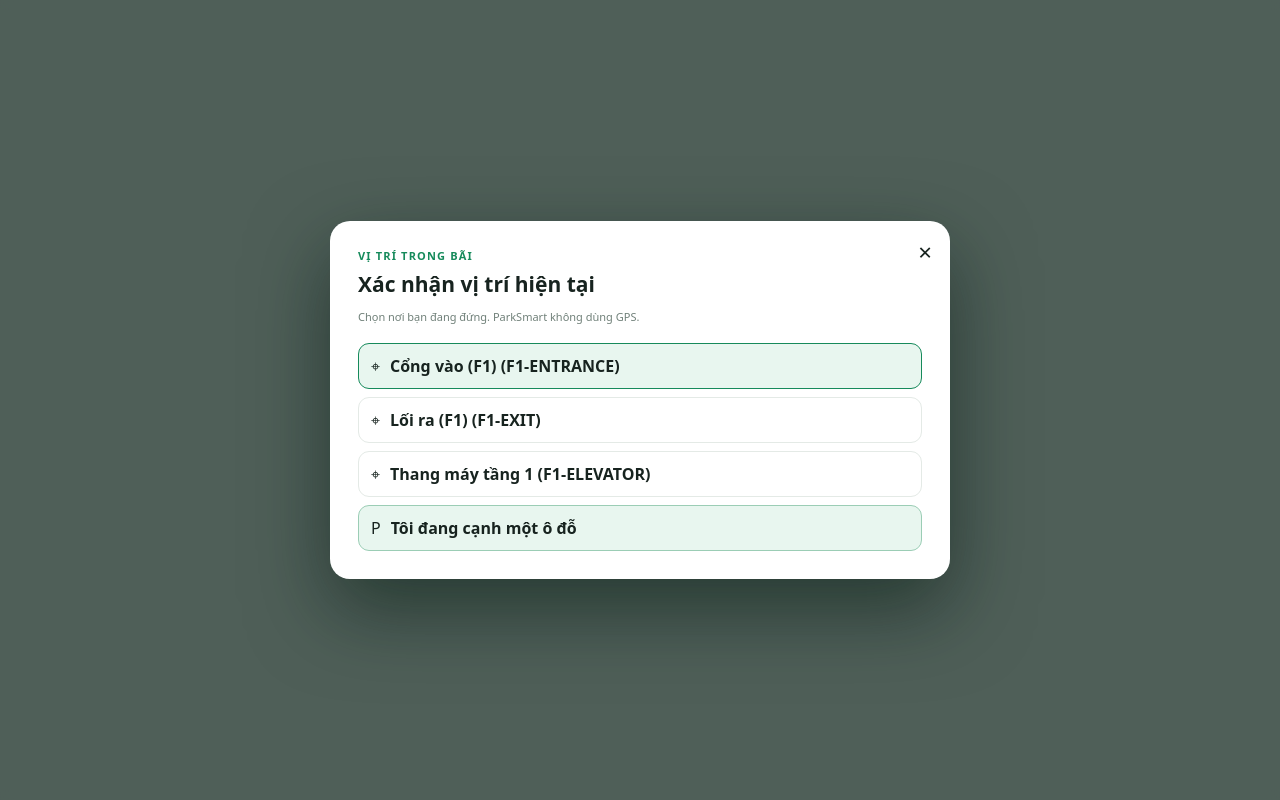
Test case: LocationPicker › shows Vietnamese special locations and a tap-only zone/slot flow
Click the button "P Tôi đang cạnh một ô đỗ" at (484, 528), box 358,505 -> 922,551
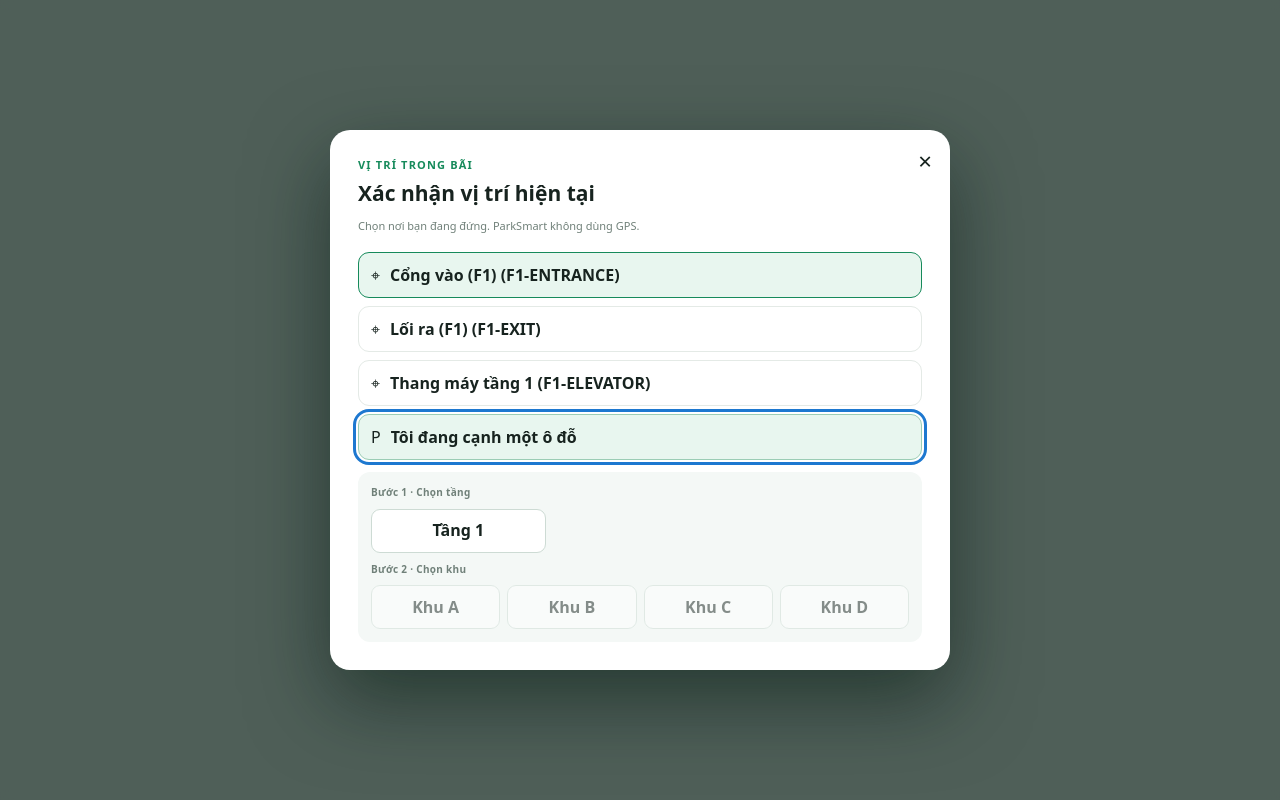
Click the button "Tầng 1" at (458, 531), box 371,509 -> 546,553
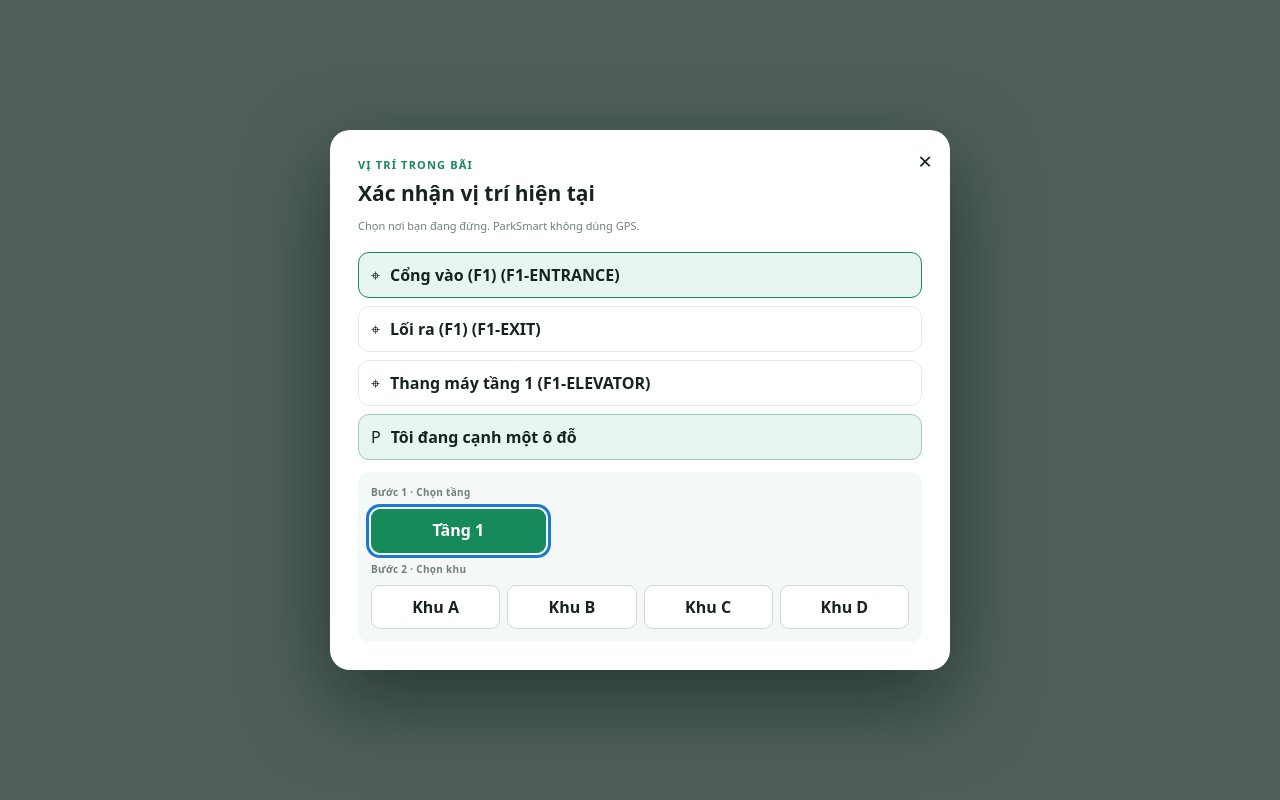
Click the button "Khu D" at (844, 607), box 780,585 -> 909,629
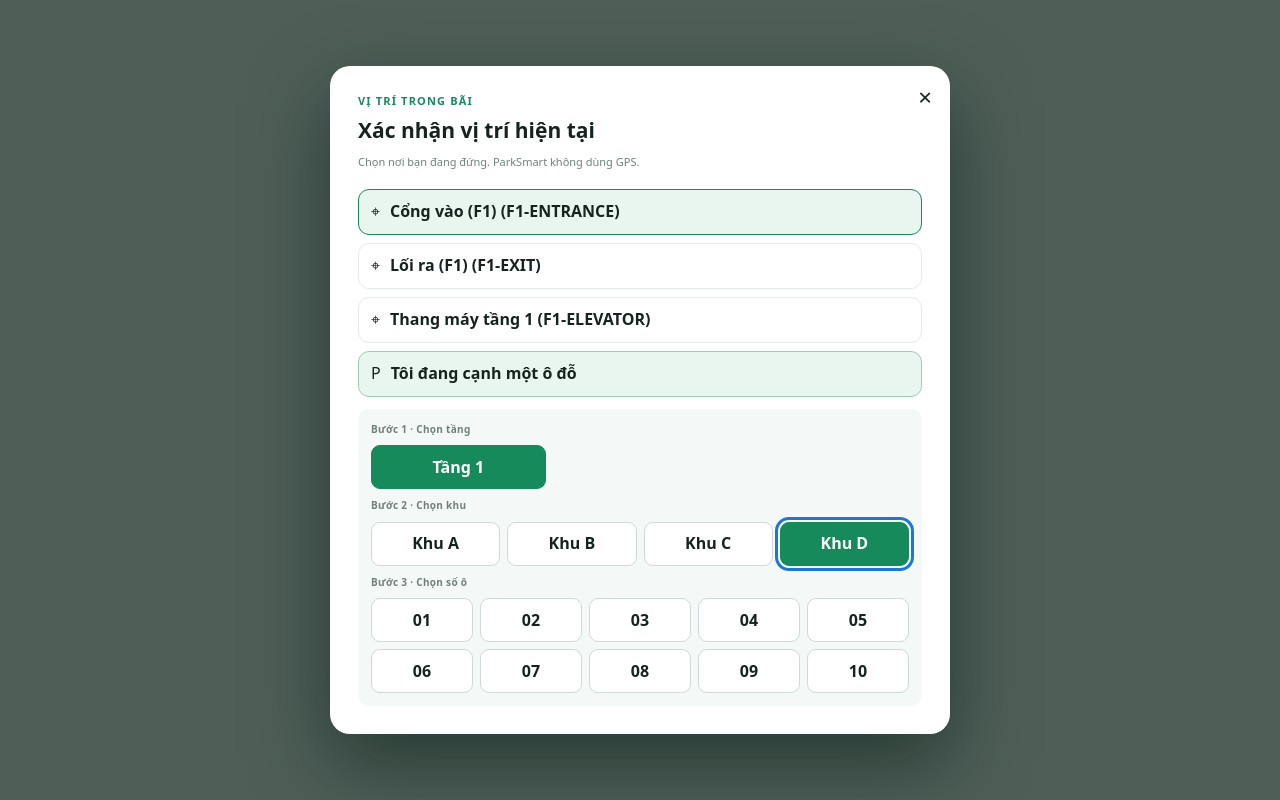
expect the element named "Chọn ô khu D, tầng 1" is shown: met, box 371,598 -> 909,693
expect the number of buttons "01" is 10: met
